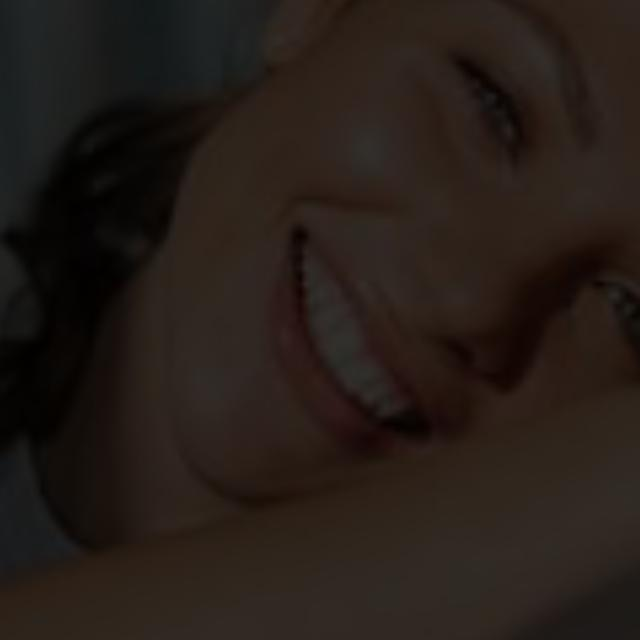Happy: (74, 0, 640, 596)
